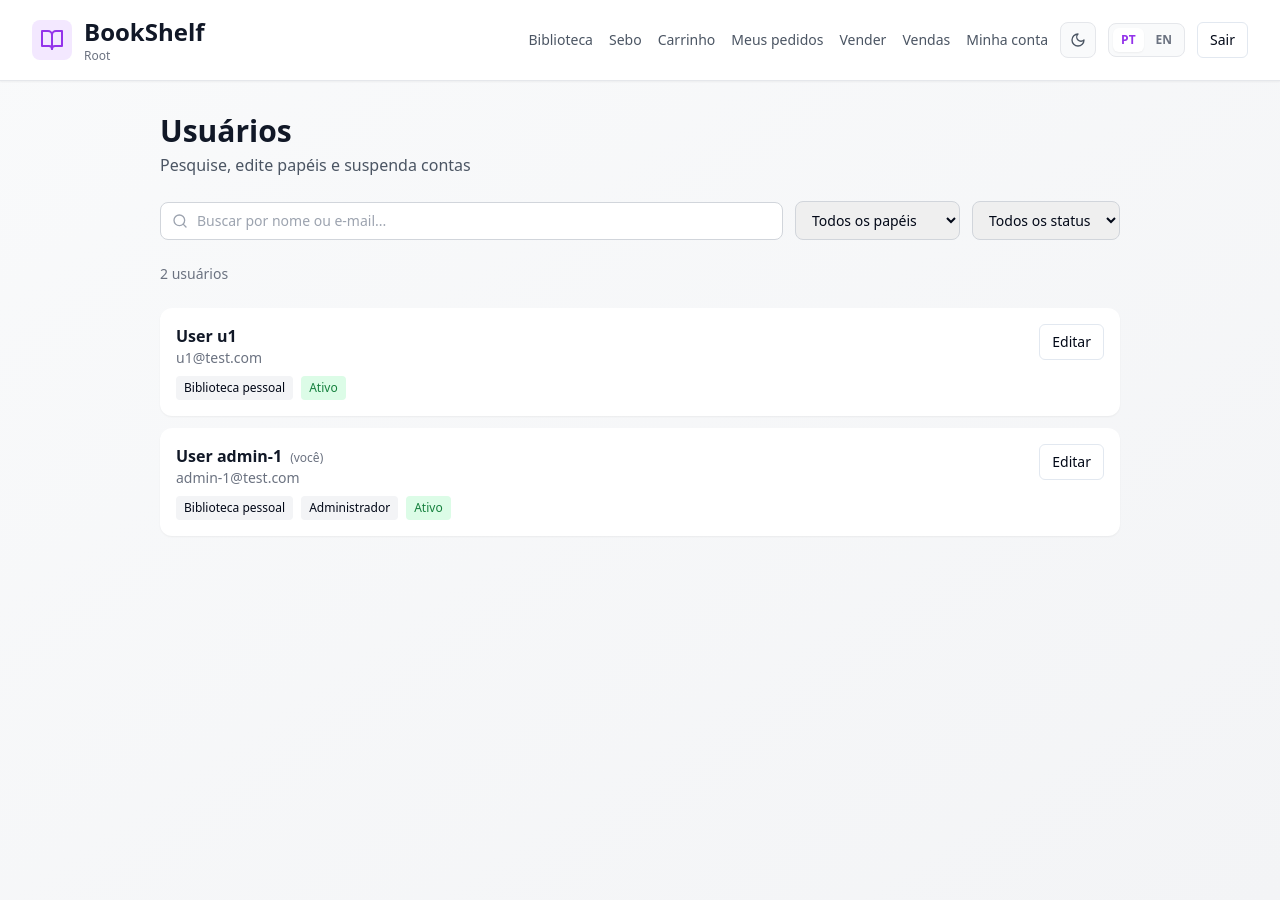
it: AdminUsersPage editing › shows the localised API error and stays open
This screenshot has width=1280, height=900.
Click the button "Editar" in the row of "User admin-1" at (1072, 462), box [1039,444,1104,480]
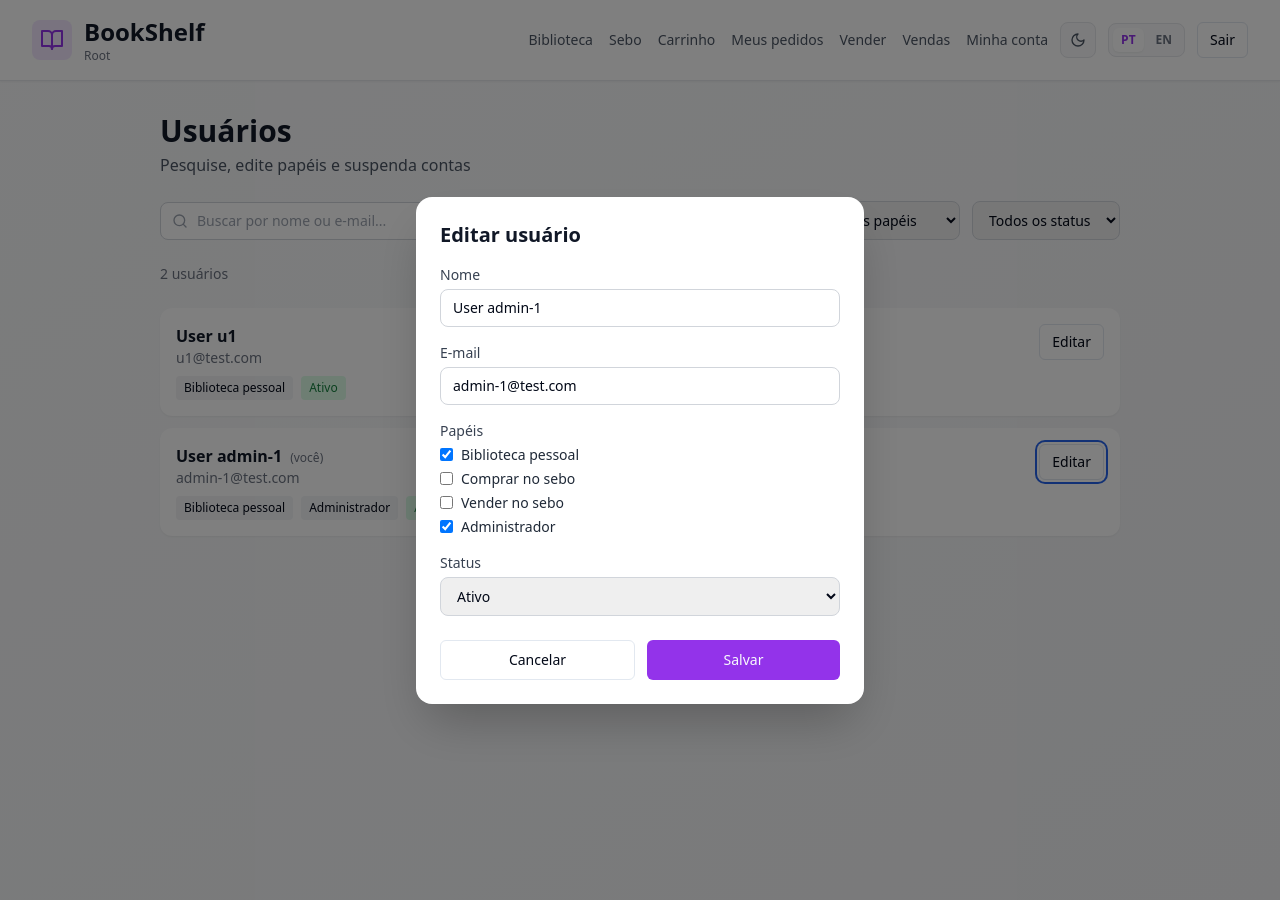
Click the checkbox with test id "edit-user-role-admin" at (446, 526), box [440,520,453,533]
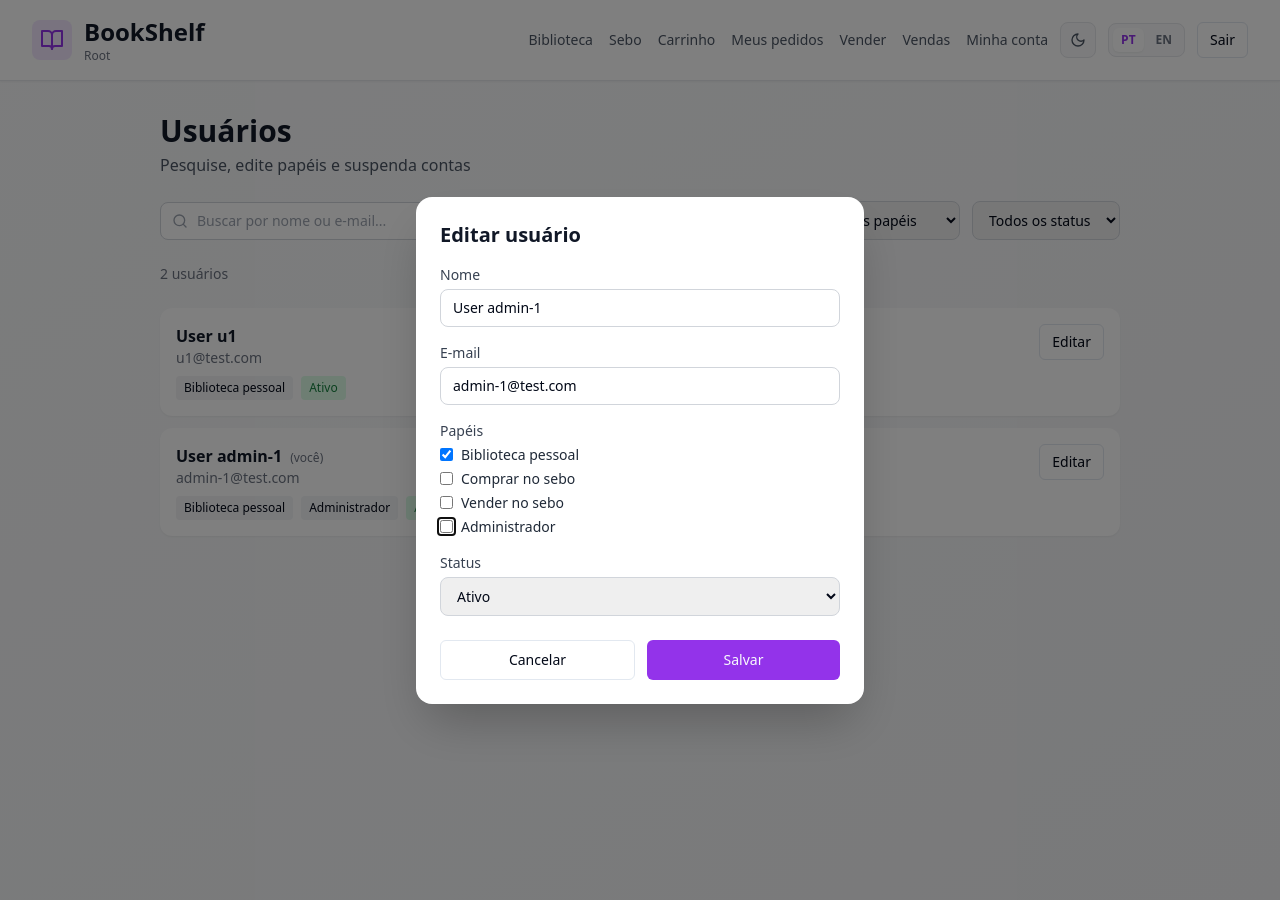
Click the button with test id "edit-user-save" at (744, 660), box [647,640,840,680]
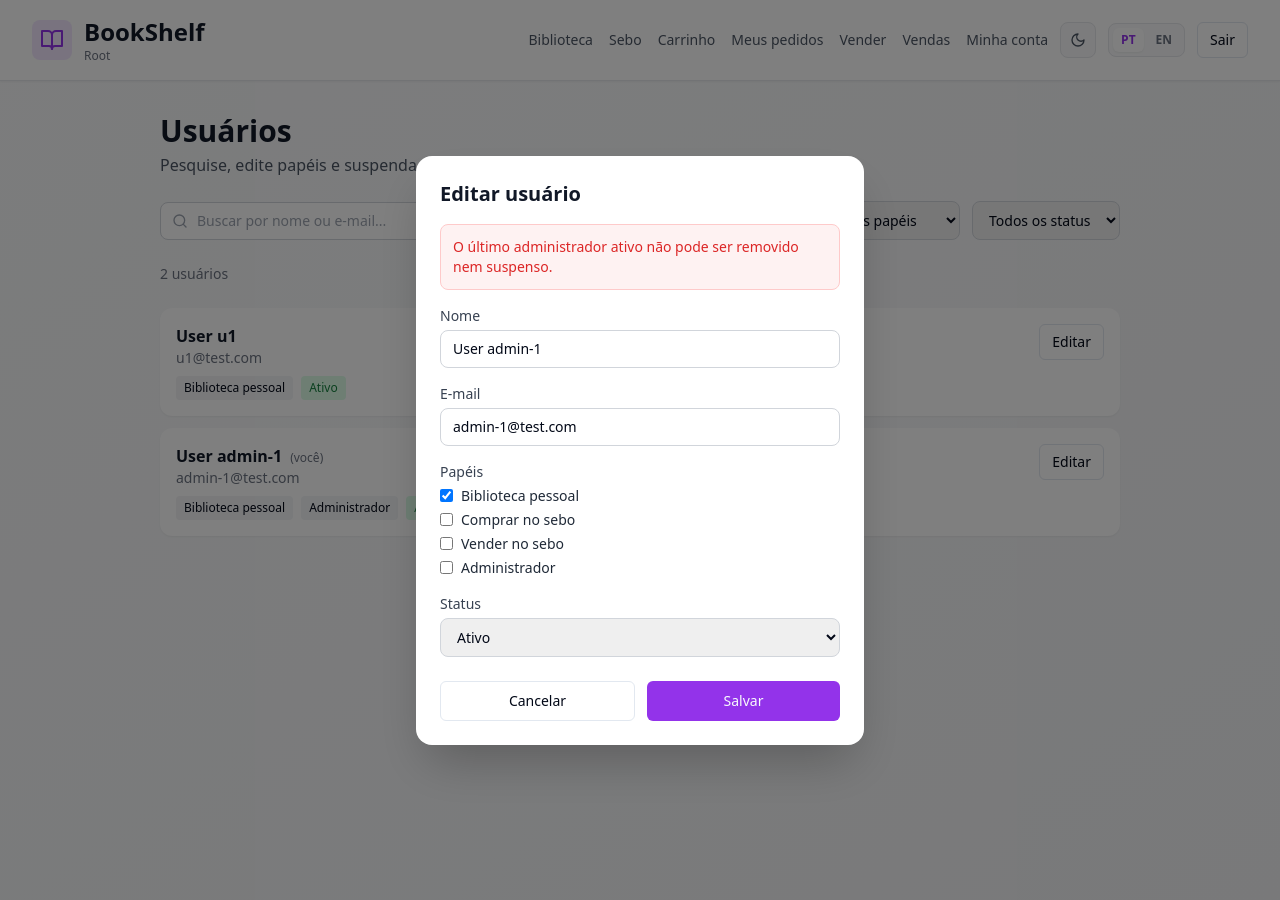
Expected: the dialog with test id "edit-user-dialog" is shown
Expected: the message with test id "edit-user-error" shows "último administrador ativo", [453,236,799,276]
